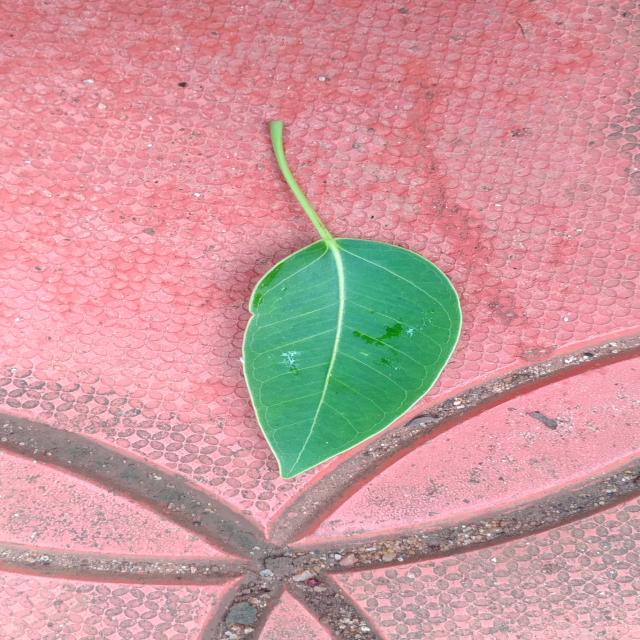camphor: (242, 121, 462, 479)
